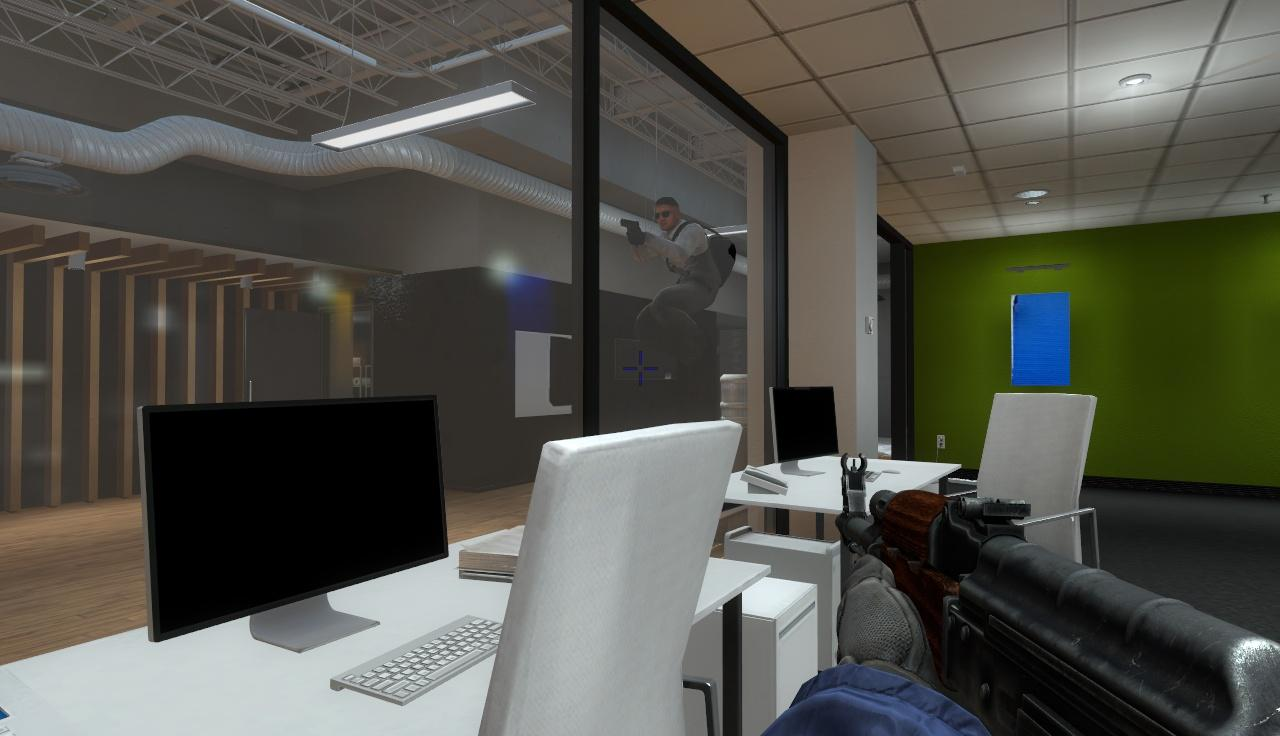rifle: (830, 455, 1280, 736)
tt: (642, 197, 715, 358)
tthead: (655, 198, 680, 229)
